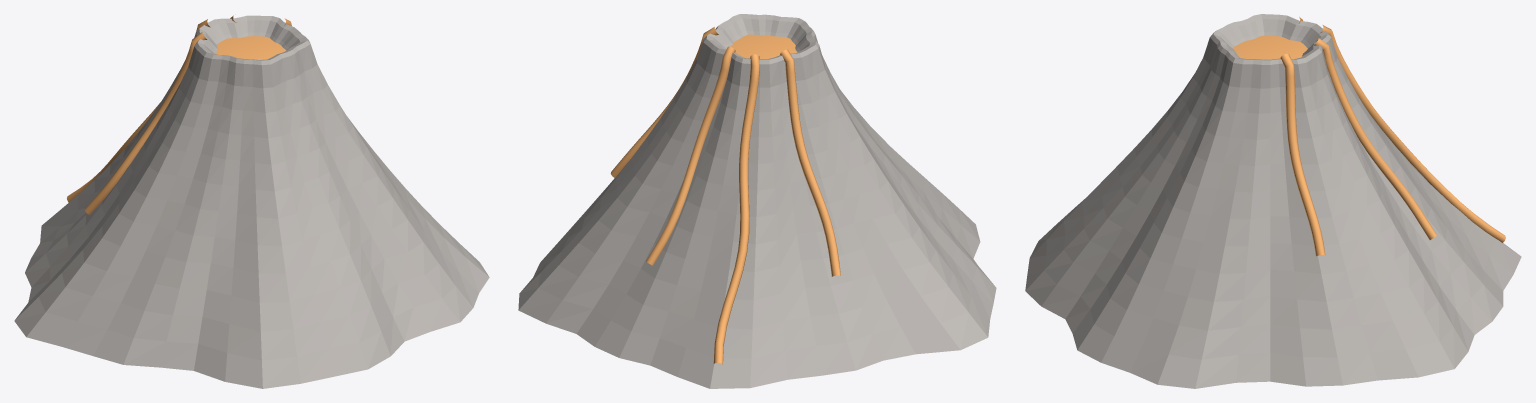
Rendered from Volcano.glb.
The picture shows the model from 3 angles, left to right: view 1: azimuth 30°, elevation 25°; view 2: azimuth 150°, elevation 25°; view 3: azimuth 270°, elevation 25°; orthographic projection. The views are drawn at different scales.
Parts seen in each view (by area): view 1: Rock, Lava; view 2: Rock, Lava; view 3: Rock, Lava.
Boxes of the visible parts, x1,y1,x2,y2 form: Rock: [14, 15, 489, 388]; Lava: [67, 15, 291, 214]; Rock: [518, 14, 996, 388]; Lava: [610, 27, 840, 364]; Rock: [1025, 14, 1521, 388]; Lava: [1233, 17, 1505, 256].
Size of the model in its own units: 108 by 61.96 by 108.
